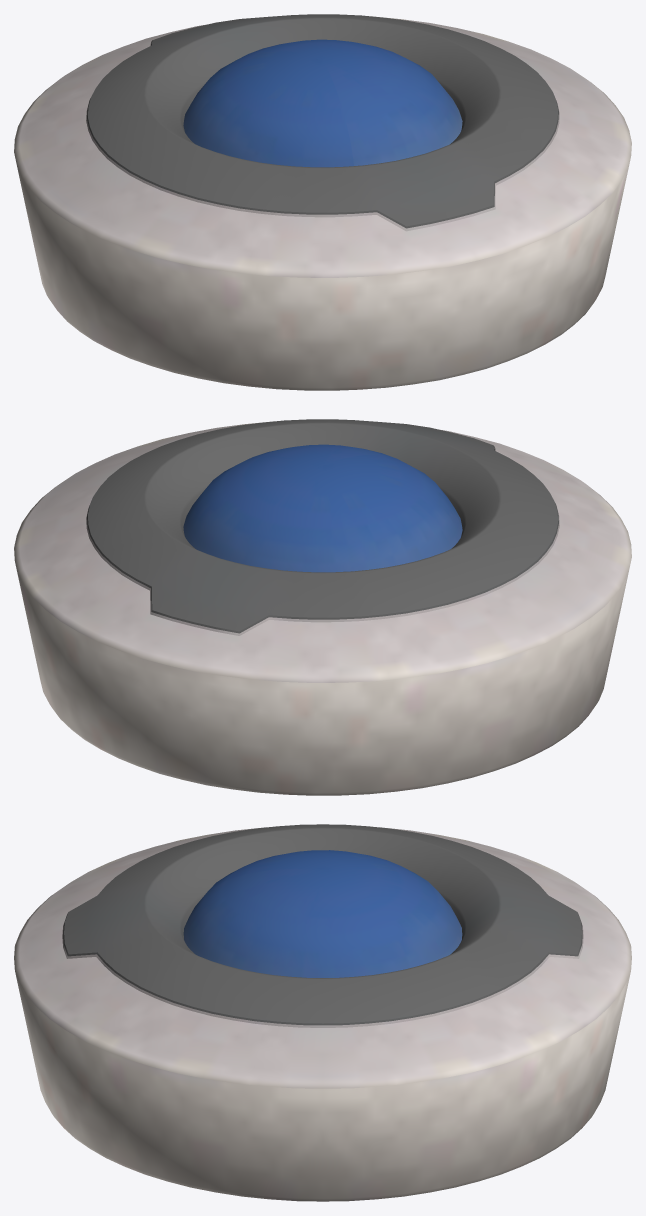
File: pref_sm_beach_bk_winter_pointmol_topbuild01_lv1.fbx
The picture shows the model from 3 angles, top to bottom: view 1: azimuth 30°, elevation 25°; view 2: azimuth 150°, elevation 25°; view 3: azimuth 270°, elevation 25°; orthographic projection.
Parts seen in each view (by area): view 1: sm_beach_bk_winter_pointmol_topbuild01a_lv1, sm_beach_bk_winter_pointmol_topbuild01b_lv1; view 2: sm_beach_bk_winter_pointmol_topbuild01a_lv1, sm_beach_bk_winter_pointmol_topbuild01b_lv1; view 3: sm_beach_bk_winter_pointmol_topbuild01a_lv1, sm_beach_bk_winter_pointmol_topbuild01b_lv1.
Boxes of the visible parts, x1,y1,x2,y2 form: sm_beach_bk_winter_pointmol_topbuild01a_lv1: [14, 14, 631, 390]; sm_beach_bk_winter_pointmol_topbuild01b_lv1: [183, 39, 462, 167]; sm_beach_bk_winter_pointmol_topbuild01a_lv1: [14, 419, 631, 795]; sm_beach_bk_winter_pointmol_topbuild01b_lv1: [183, 444, 462, 572]; sm_beach_bk_winter_pointmol_topbuild01a_lv1: [14, 824, 631, 1201]; sm_beach_bk_winter_pointmol_topbuild01b_lv1: [183, 850, 462, 977].
Size of the model in its own units: 27.09 by 10.25 by 27.05.
